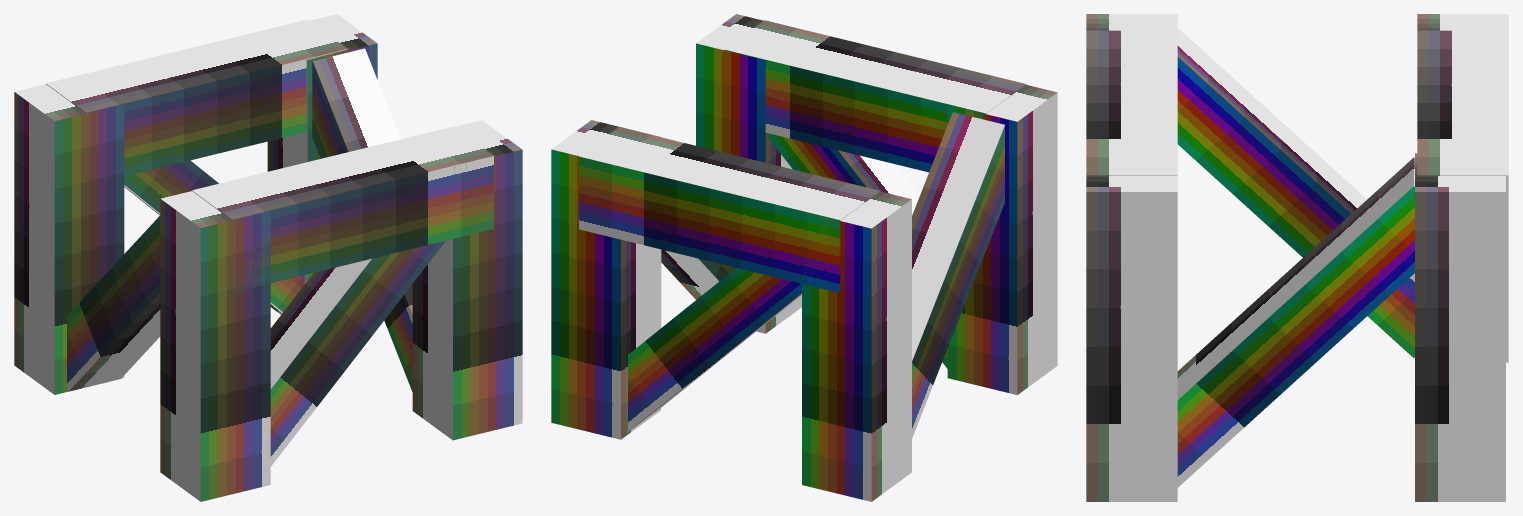
File: TestHouseBuild.fbx
3 renders of one model, left to right at view 1: azimuth 30°, elevation 25°; view 2: azimuth 150°, elevation 25°; view 3: azimuth 270°, elevation 25°, orthographic. The views are drawn at different scales.
Visible parts, largest first — view 1: Cube.002, Cube.010, Cube.001, Cube.003, Cube.009, Cube.005, Cube.007, Cube.008, Cube.004, Cube.006; view 2: Cube.009, Cube.001, Cube.010, Cube.002, Cube.004, Cube.007, Cube.006, Cube.003, Cube.005, Cube.008; view 3: Cube.003, Cube.004, Cube.008, Cube.007, Cube.009, Cube.010, Cube.001, Cube.002.
Part boxes in pixels (bbox=[...]): Cube.002: bbox=[160, 191, 270, 501]; Cube.010: bbox=[192, 126, 493, 291]; Cube.001: bbox=[14, 84, 124, 394]; Cube.003: bbox=[412, 120, 522, 440]; Cube.009: bbox=[46, 19, 347, 176]; Cube.005: bbox=[270, 241, 445, 466]; Cube.007: bbox=[67, 215, 160, 391]; Cube.008: bbox=[312, 48, 412, 391]; Cube.004: bbox=[267, 14, 377, 314]; Cube.006: bbox=[124, 160, 304, 312]; Cube.009: bbox=[579, 127, 880, 292]; Cube.001: bbox=[802, 191, 911, 501]; Cube.010: bbox=[725, 20, 1026, 172]; Cube.002: bbox=[947, 84, 1057, 394]; Cube.004: bbox=[551, 120, 661, 439]; Cube.007: bbox=[912, 112, 1004, 438]; Cube.006: bbox=[628, 268, 801, 431]; Cube.003: bbox=[696, 14, 801, 333]; Cube.005: bbox=[768, 133, 947, 368]; Cube.008: bbox=[661, 249, 735, 299]; Cube.003: bbox=[1086, 176, 1177, 501]; Cube.004: bbox=[1415, 153, 1505, 501]; Cube.008: bbox=[1177, 157, 1414, 487]; Cube.007: bbox=[1177, 28, 1414, 357]; Cube.009: bbox=[1417, 30, 1508, 257]; Cube.010: bbox=[1086, 30, 1177, 175]; Cube.001: bbox=[1417, 14, 1508, 362]; Cube.002: bbox=[1086, 14, 1177, 30].
Bounding box in the file's own units: 92.27 × 75.19 × 92.53.
